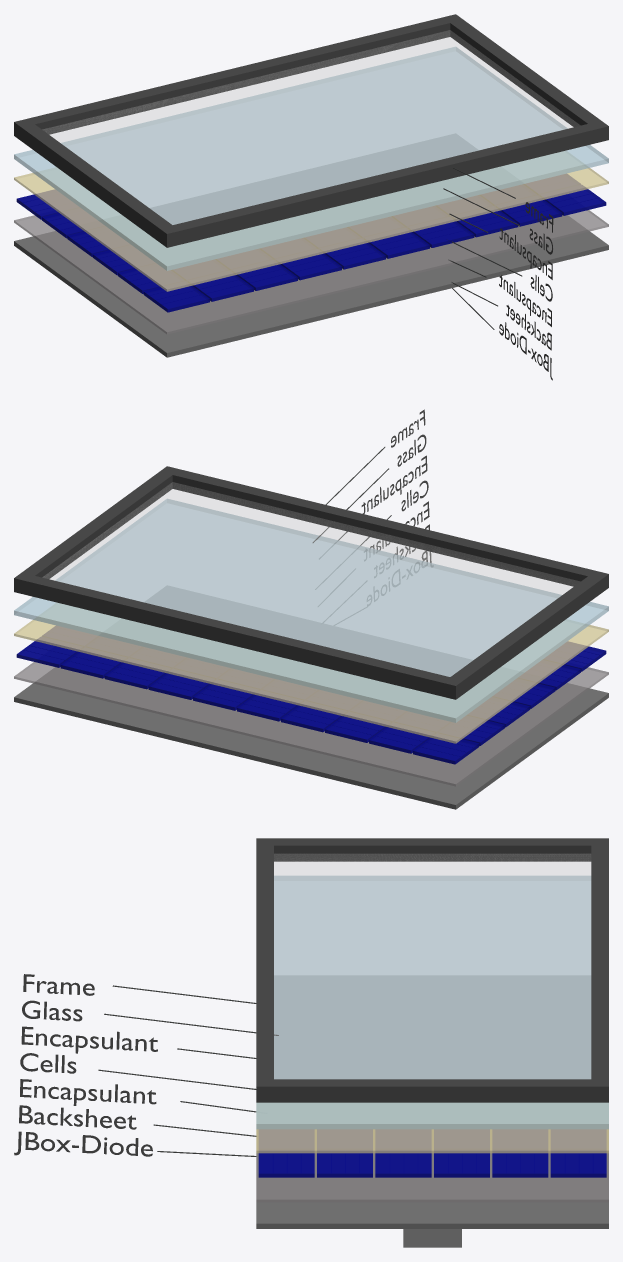
File: pv_module_other.glb
The picture shows the model from 3 angles, top to bottom: view 1: azimuth 30°, elevation 25°; view 2: azimuth 150°, elevation 25°; view 3: azimuth 270°, elevation 25°; orthographic projection. The views are drawn at different scales.
Parts seen in each view (by area): view 1: glass, interior, backsheet, frame, eva1, cell, eva2, Text; view 2: glass, interior, backsheet, frame, eva1, cell, eva2, Text; view 3: glass, interior, backsheet, frame, eva1, cell, eva2, Text, jbox.
Part boxes in pixels (bbox=[...]): glass: bbox=[14, 46, 608, 270]; interior: bbox=[42, 30, 579, 224]; backsheet: bbox=[14, 134, 608, 357]; frame: bbox=[14, 14, 608, 247]; eva1: bbox=[14, 151, 608, 291]; cell: bbox=[16, 174, 606, 312]; eva2: bbox=[14, 210, 608, 334]; Text: bbox=[499, 202, 553, 380]; glass: bbox=[14, 498, 608, 722]; interior: bbox=[43, 482, 579, 676]; backsheet: bbox=[14, 586, 608, 809]; frame: bbox=[14, 466, 608, 699]; eva1: bbox=[14, 603, 608, 743]; cell: bbox=[16, 626, 606, 764]; eva2: bbox=[14, 662, 608, 786]; Text: bbox=[361, 409, 432, 605]; glass: bbox=[256, 875, 608, 1129]; interior: bbox=[274, 854, 590, 1078]; backsheet: bbox=[256, 976, 608, 1228]; frame: bbox=[256, 838, 608, 1102]; eva1: bbox=[256, 1103, 608, 1153]; cell: bbox=[258, 1129, 606, 1177]; eva2: bbox=[256, 1130, 608, 1202]; Text: bbox=[14, 974, 157, 1156]; jbox: bbox=[403, 1229, 461, 1247].
Size of the model in its own units: 200 by 69.69 by 202.
